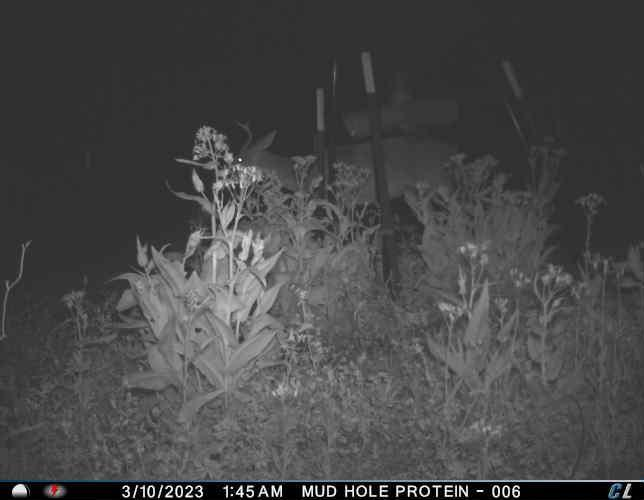Deer: (232, 119, 466, 236)
